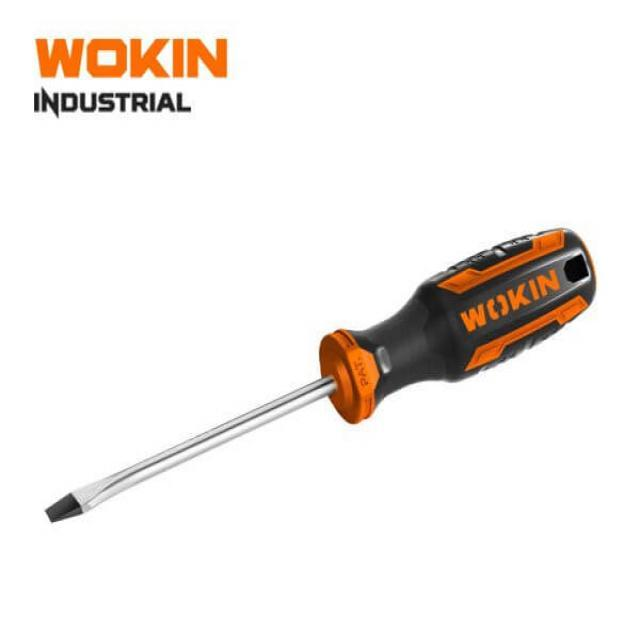screwdriver: (42, 223, 600, 527)
